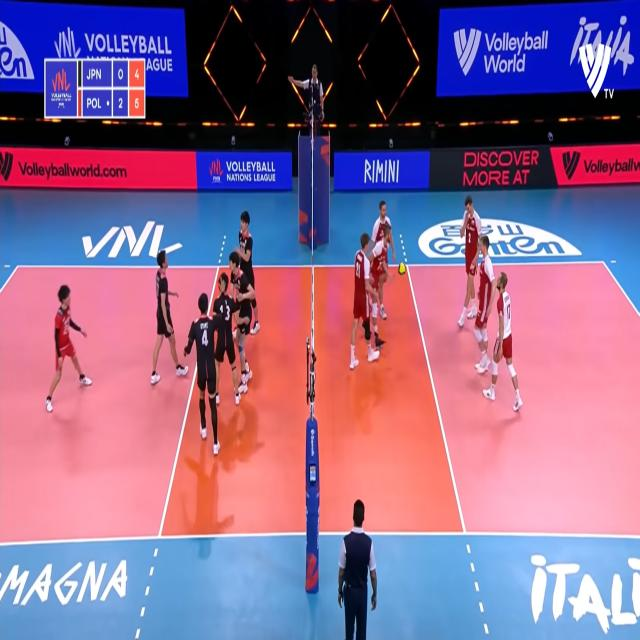player: (182, 294, 230, 456), (49, 282, 95, 410), (483, 268, 524, 408), (152, 240, 189, 390), (212, 271, 244, 406), (351, 226, 381, 368), (227, 250, 254, 396), (236, 208, 260, 341), (458, 196, 480, 341), (474, 235, 494, 380), (366, 224, 389, 346), (370, 199, 397, 278)
